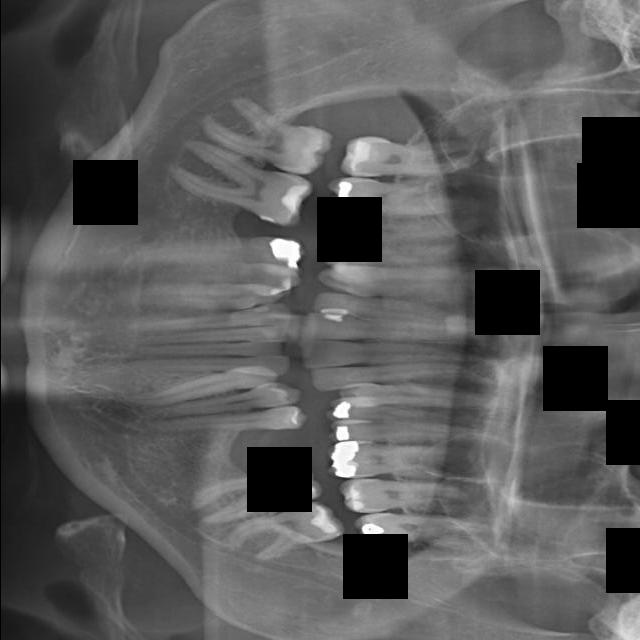AGS Medikal Implant: (309, 361, 503, 394)
AMerOss Implant: (336, 377, 526, 414)
Amalgam filling: (322, 397, 501, 428)
Anthogyr Implant: (323, 421, 524, 452)
Bicon Implant: (421, 460, 422, 461)
BioHorizons Implant: (336, 467, 473, 516)
BioLife Implant: (349, 511, 502, 554)
Biomet 3i Implant: (220, 492, 349, 574)
Blue Sky Bio Implant: (182, 454, 326, 533)
Caries: (443, 158, 444, 158)
Composite filling: (154, 405, 310, 433)
Cowellmedi Implant: (160, 380, 305, 420)
Crown: (118, 361, 280, 415)
DENTSPLY Implant: (117, 357, 290, 379)
Dentatus Implant: (138, 342, 288, 356)
Dentis Implant: (138, 326, 290, 348)
Dentium Implant: (123, 302, 291, 333)
Euroteknika Implant: (111, 279, 292, 314)
Filling: (122, 258, 303, 294)
Frontier Implant: (123, 235, 308, 265)
Hiossen Implant: (322, 175, 476, 218)
Implant: (158, 131, 320, 236)
Keystone Dental Implant: (190, 80, 341, 186)
MIS Implant: (317, 216, 493, 242)
Mandible: (313, 238, 481, 269)
Maxilla: (313, 265, 545, 297)
Megagen Implant: (309, 290, 496, 333)
Neodent Implant: (299, 311, 486, 344)
Neoss Implant: (297, 334, 503, 370)
